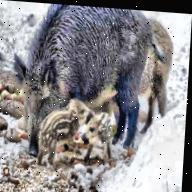boar: (0, 1, 153, 161), (38, 90, 93, 174), (80, 108, 125, 175)
